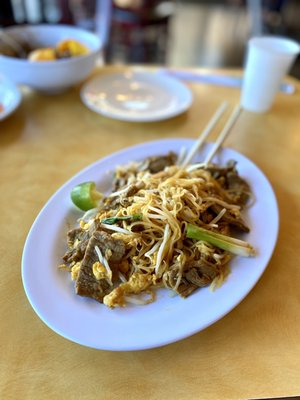pizza: (240, 36, 300, 115)
sushi: (0, 23, 102, 96), (0, 69, 23, 125)
